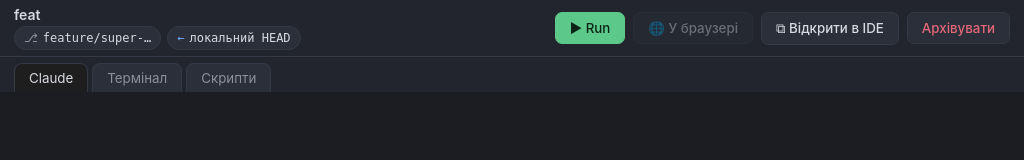
Test case: Toolbar › reveals the full branch name in a popup on hover
Hover over the button "⎇ feature/super-…" at [88, 38], box [14,26,161,50]
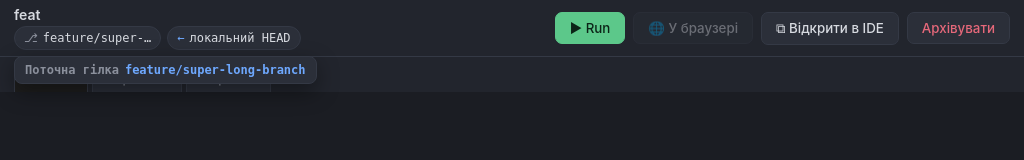
Check: the text "feature/super-long-branch" is shown, box [125,63,306,77]
Move the pointer off the button "⎇ feature/super-…", box [14,26,161,50]
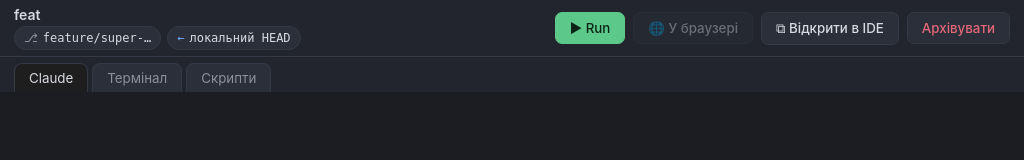
Check: the text "feature/super-long-branch" is gone
